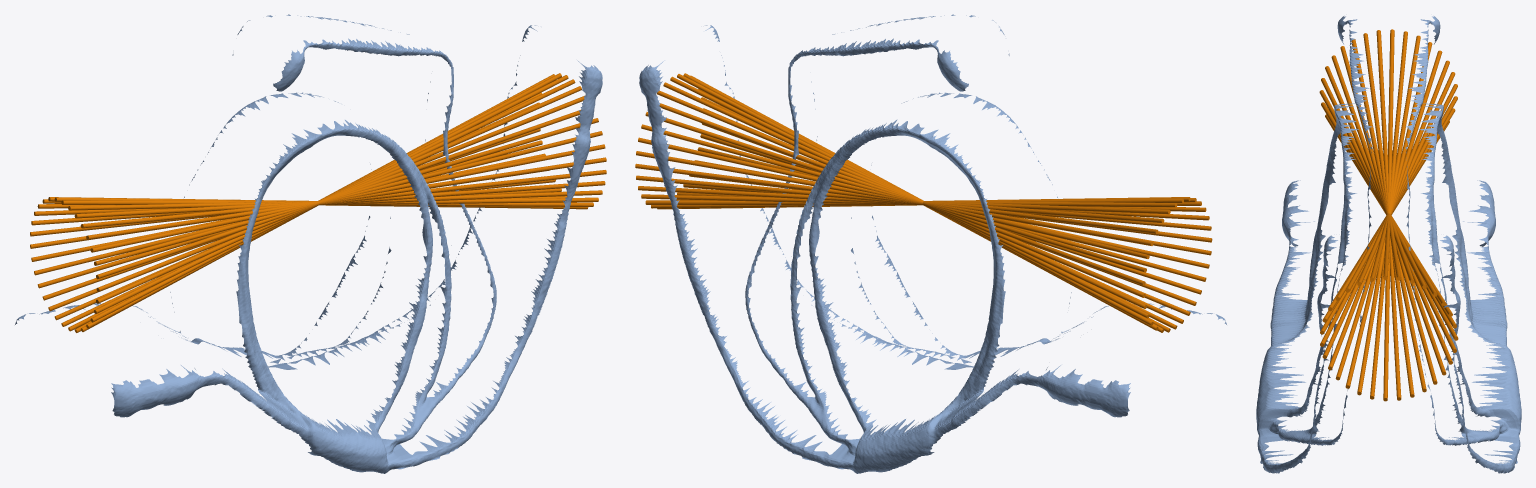
The model's file is A20021021_6145-37-531-1141_DigitalTwin.glb.
The picture shows the model from 3 angles, left to right: view 1: azimuth 30°, elevation 25°; view 2: azimuth 150°, elevation 25°; view 3: azimuth 270°, elevation 25°; orthographic projection.
Parts seen in each view (by area): view 1: world; view 2: world; view 3: world.
Part boxes in pixels (x1,y1,x2,y2): world: (15,14,606,473); world: (635,14,1226,473); world: (1256,16,1521,473).
Size of the model in its own units: 531 by 407 by 241.
